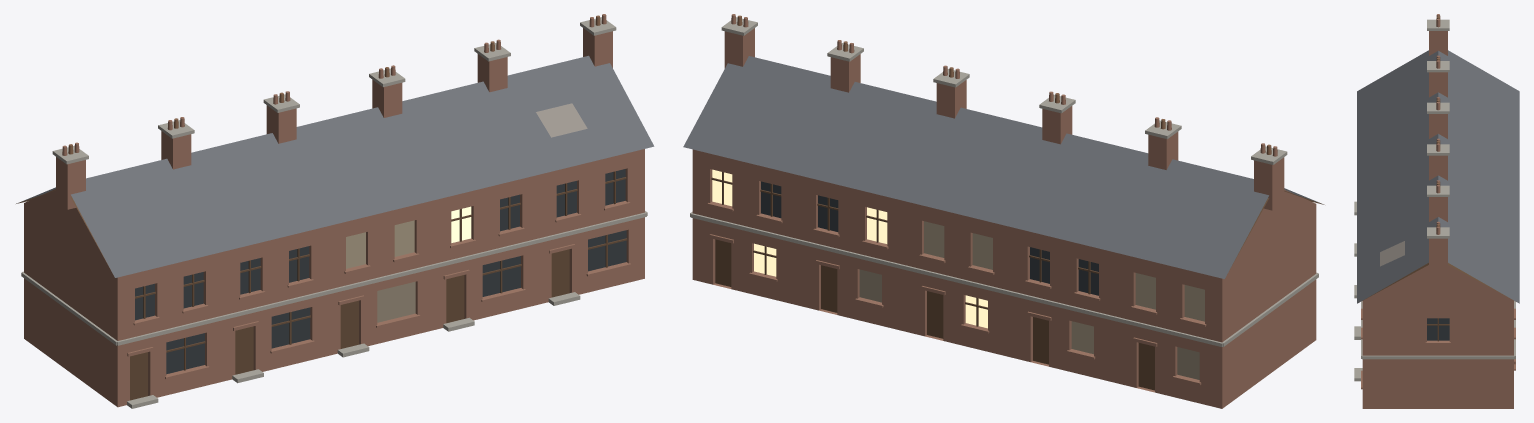
Rendered from prole_terrace_b.glb.
3 renders of one model, left to right at view 1: azimuth 30°, elevation 25°; view 2: azimuth 150°, elevation 25°; view 3: azimuth 270°, elevation 25°, orthographic. The views are drawn at different scales.
Visible parts, largest first — view 1: prole_terrace_b; view 2: prole_terrace_b; view 3: prole_terrace_b.
Part boxes in pixels (x1,y1,x2,y2): prole_terrace_b: (16,14,654,408); prole_terrace_b: (683,14,1324,408); prole_terrace_b: (1354,14,1519,408).
Bounding box in the file's own units: 27.1 × 10.75 × 8.75.
